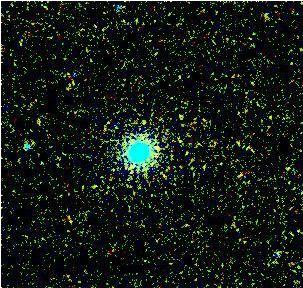star: (142, 132, 172, 162)
